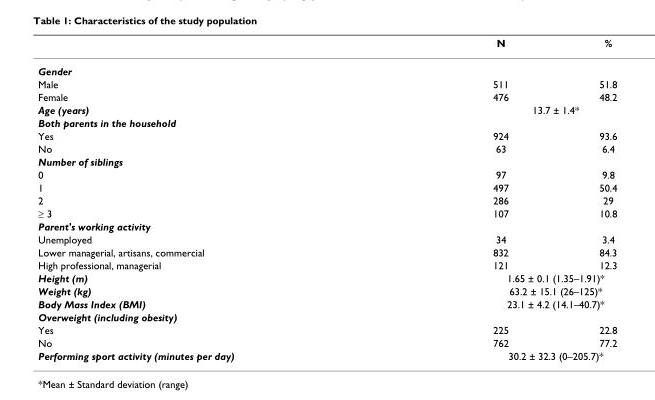table: (37, 36, 616, 361)
table column: (37, 36, 362, 361), (362, 36, 553, 361), (553, 36, 616, 361)
table column header: (37, 36, 616, 56)
table projected row header: (37, 56, 616, 77), (37, 115, 616, 128), (37, 154, 616, 167), (37, 219, 616, 232), (37, 310, 616, 323)
table row: (37, 56, 616, 77), (37, 36, 616, 56), (37, 77, 616, 90), (37, 102, 616, 115), (37, 115, 616, 128), (37, 128, 616, 141), (37, 141, 616, 154), (37, 154, 616, 167), (37, 167, 616, 180), (37, 180, 616, 193), (37, 193, 616, 206), (37, 206, 616, 219), (37, 219, 616, 232), (37, 232, 616, 245), (37, 245, 616, 258), (37, 258, 616, 271), (37, 271, 616, 284), (37, 284, 616, 297), (37, 297, 616, 310), (37, 310, 616, 323), (37, 335, 616, 348), (37, 348, 616, 361), (37, 90, 616, 102), (37, 323, 616, 335)
table spanning cell: (362, 102, 616, 115), (362, 271, 616, 284), (362, 284, 616, 297), (362, 297, 616, 310), (362, 348, 616, 361)
